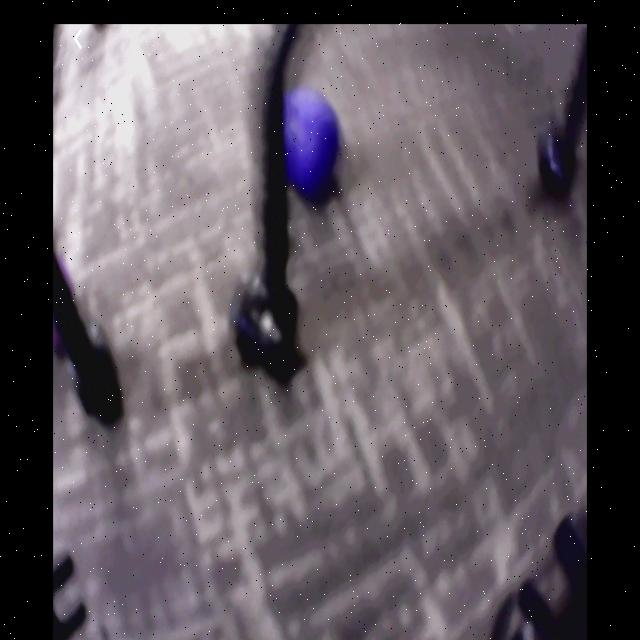ball: (287, 89, 339, 195)
